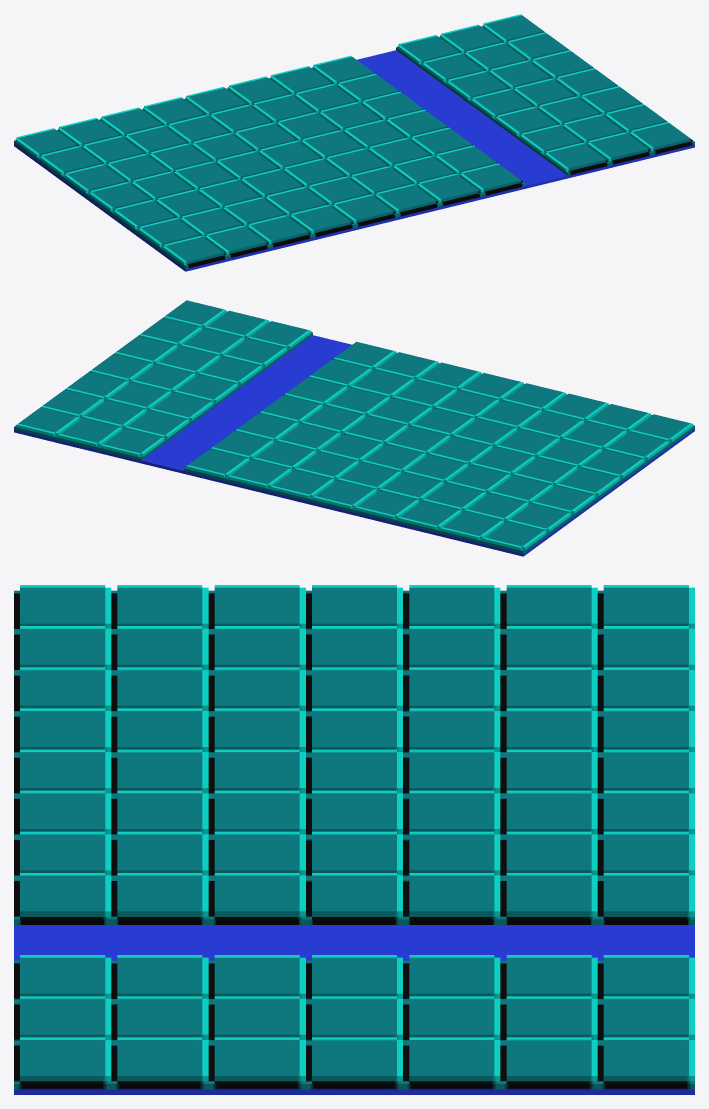
File: FloorWaterRiverRight.glb
3 views of the same model, one above another, from view 1: azimuth 30°, elevation 25°; view 2: azimuth 150°, elevation 25°; view 3: azimuth 270°, elevation 25° (orthographic). The views are drawn at different scales.
Visible parts, largest first — view 1: FloorWaterRiverRight; view 2: FloorWaterRiverRight; view 3: FloorWaterRiverRight.
Part boxes in pixels (bbox=[...]): FloorWaterRiverRight: bbox=[14, 14, 694, 271]; FloorWaterRiverRight: bbox=[14, 300, 694, 556]; FloorWaterRiverRight: bbox=[14, 585, 694, 1094].
Bounding box in the file's own units: 19.2 × 0.3 × 11.2.
Materials: 1 (1 with a texture image).
